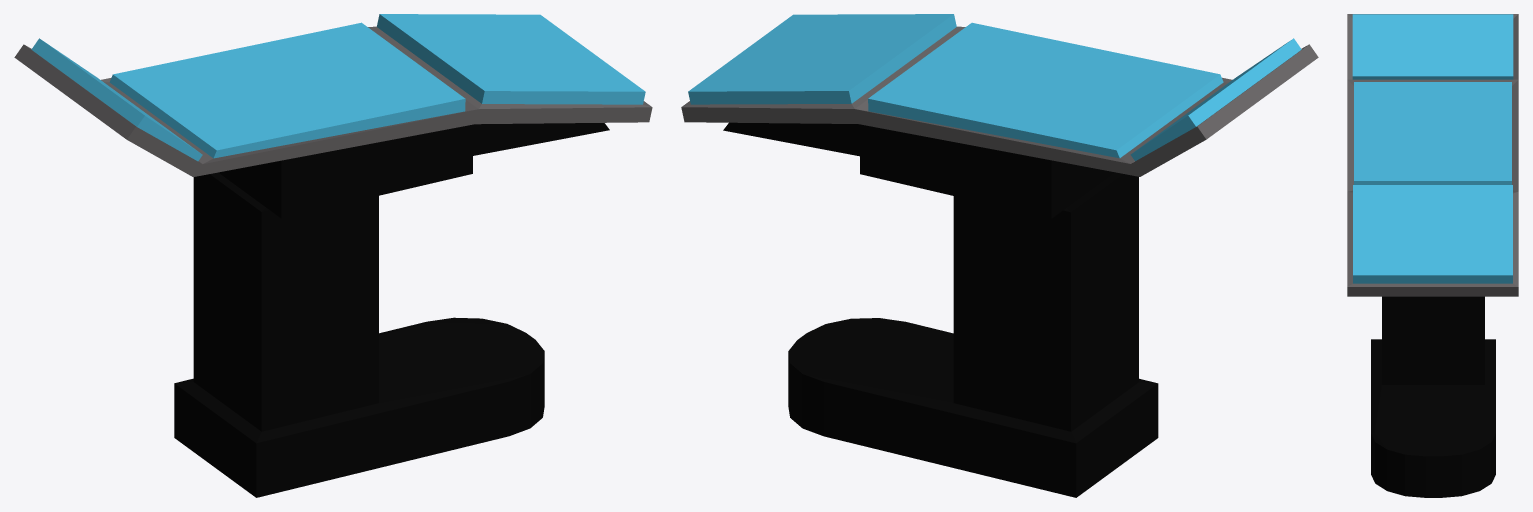
The model's file is camilla.fbx.
The picture shows the model from 3 angles, left to right: view 1: azimuth 30°, elevation 25°; view 2: azimuth 150°, elevation 25°; view 3: azimuth 270°, elevation 25°; orthographic projection. The views are drawn at different scales.
Parts seen in each view (by area): view 1: Cube.002; view 2: Cube.002; view 3: Cube.002.
Boxes of the visible parts, x1,y1,x2,y2 form: Cube.002: (14, 14, 652, 497); Cube.002: (681, 14, 1318, 497); Cube.002: (1347, 14, 1518, 497).
Bounding box in the file's own units: 410 × 314 × 152.
